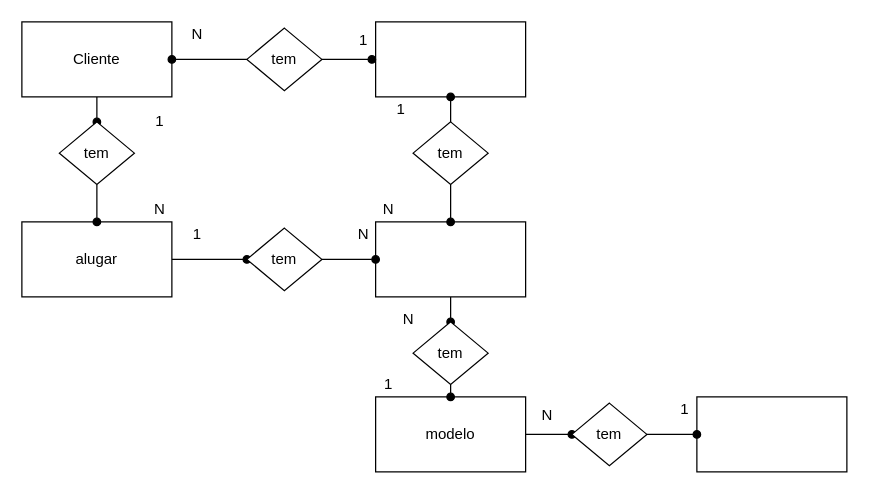
Some shapes in this 869 by 494 pixel diagram are drawn without their labels. Each missing label, with the centre of its shape:
empresa: pixel 450 59
marca: pixel 771 434
veiculos: pixel 450 259
